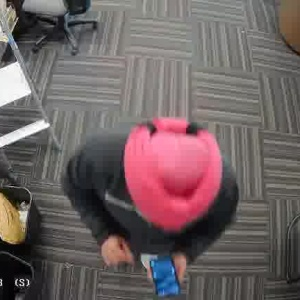person: (75, 124, 235, 265)
